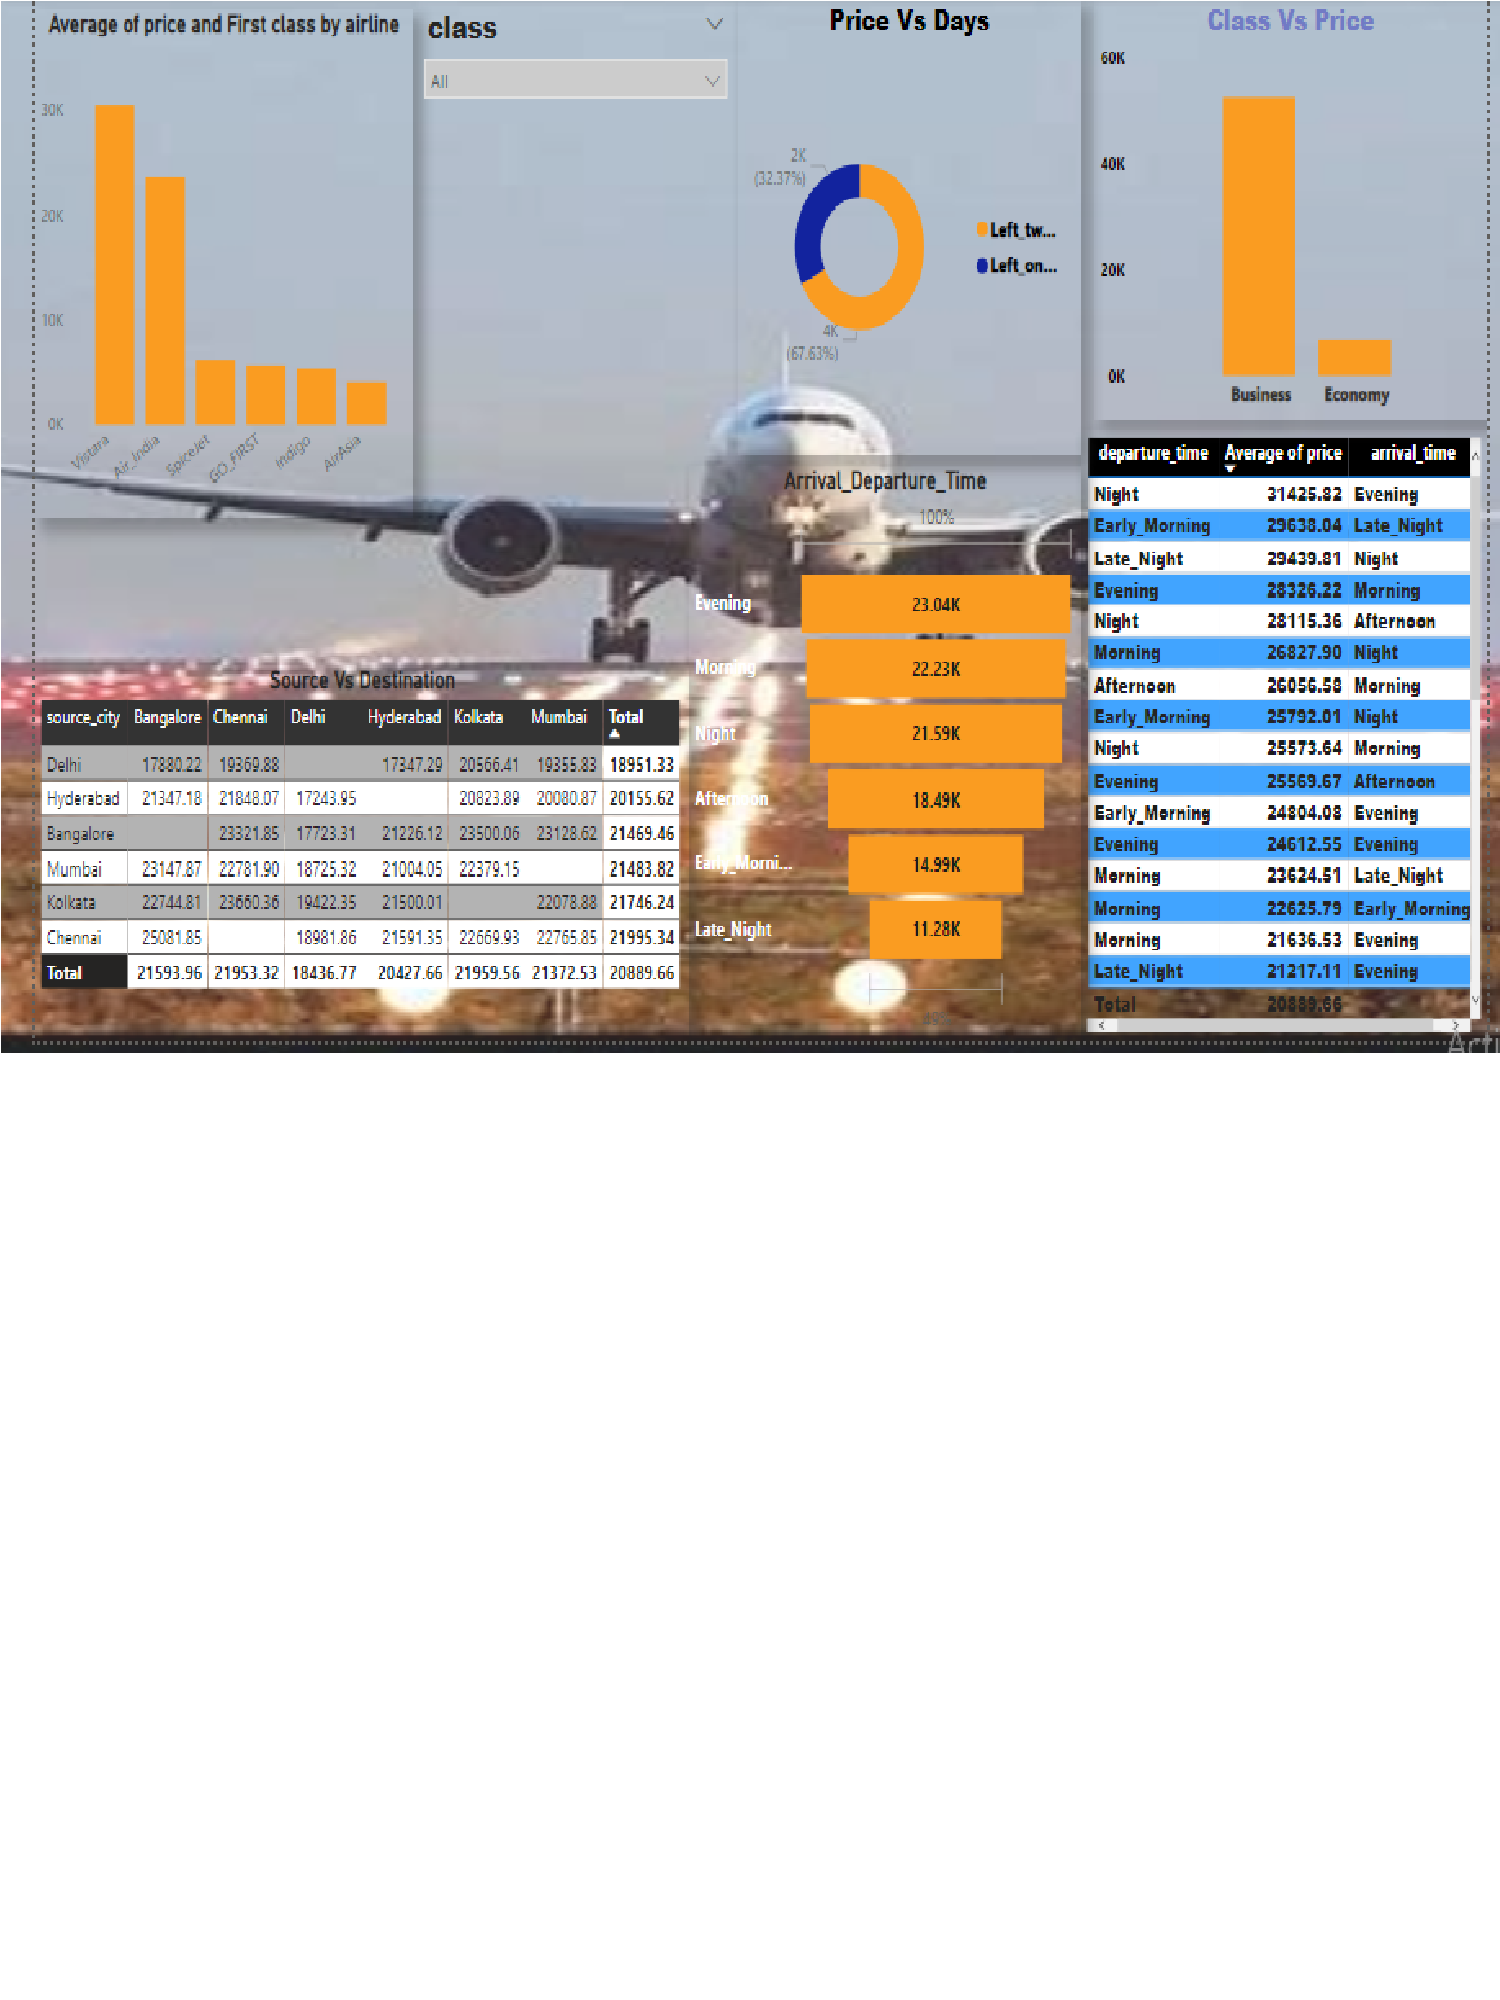

The dashboard page shown, as its layout file describes it:
{"tool":"powerbi","page":{"name":"Assignment","canvas":[1280,720],"ordinal":0},"visuals":[{"type":"columnChart","fields":{"Category":["Clean_Dataset.airline"],"Y":["Avg(Clean_Dataset.price)"]},"box":[0,7.6,332.6,351.5],"z":0},{"type":"slicer","fields":{"Values":["Clean_Dataset.class"]},"box":[332.6,0,287.2,88.8],"z":1000},{"type":"tableEx","fields":{"Values":["Clean_Dataset.departure_time","Avg(Clean_Dataset.price)","Clean_Dataset.arrival_time"]},"box":[922.2,298.6,357.2,421.4],"z":2000},{"type":"pivotTable","title":"Source Vs Destination","fields":{"Rows":["Clean_Dataset.source_city"],"Columns":["Clean_Dataset.destination_city"],"Values":["Avg(Clean_Dataset.price)"]},"box":[0,461.1,576.4,258.9],"z":3000},{"type":"donutChart","title":"Price Vs Days","fields":{"Y":["All Measures.Left_two_day","All Measures.Left_one_day"]},"box":[619.8,0,302.4,315.6],"z":4000},{"type":"columnChart","title":"Class Vs Price","fields":{"Y":["Avg(Clean_Dataset.price)"],"Category":["Clean_Dataset.class"]},"box":[933.6,0,345.8,291],"z":5000},{"type":"funnel","title":"Arrival_Departure_Time","fields":{"Category":["Clean_Dataset.arrival_time"],"Y":["Avg(Clean_Dataset.price)"]},"box":[576.4,323.2,345.8,396.9],"z":6000}]}

Visuals, with their boxes in screenshot pixels (x1, y1, x2, y2):
columnChart - Clean_Dataset.airline x Avg(Clean_Dataset.price): crop(52, 1055, 423, 1447)
slicer - Clean_Dataset.class: crop(423, 1047, 743, 1146)
tableEx - Clean_Dataset.departure_time x Avg(Clean_Dataset.price): crop(1080, 1380, 1478, 1849)
"Source Vs Destination" pivotTable: crop(52, 1561, 695, 1849)
"Price Vs Days" donutChart: crop(743, 1047, 1080, 1399)
"Class Vs Price" columnChart: crop(1093, 1047, 1478, 1371)
"Arrival_Departure_Time" funnel: crop(695, 1407, 1080, 1850)
